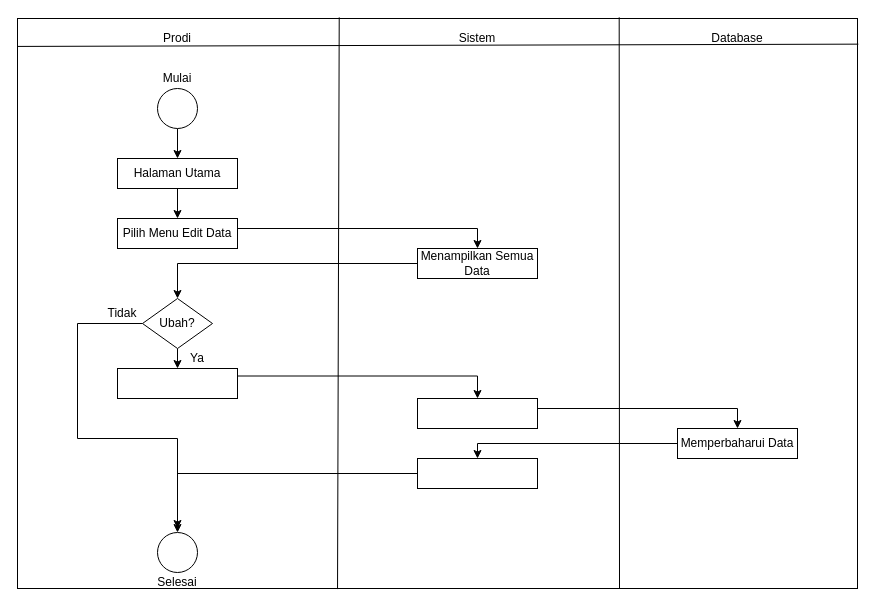
Image size: 877x610. Some labels were removed from this diagram. Each missing label, with the centre of its shape:
"Menampilkan Halaman Ubah Data" goes at (x=477, y=413).
"Notifikasi Data berhasil Diubah" goes at (x=477, y=473).
"Pilih Data yang akan Diubah" goes at (x=177, y=383).
